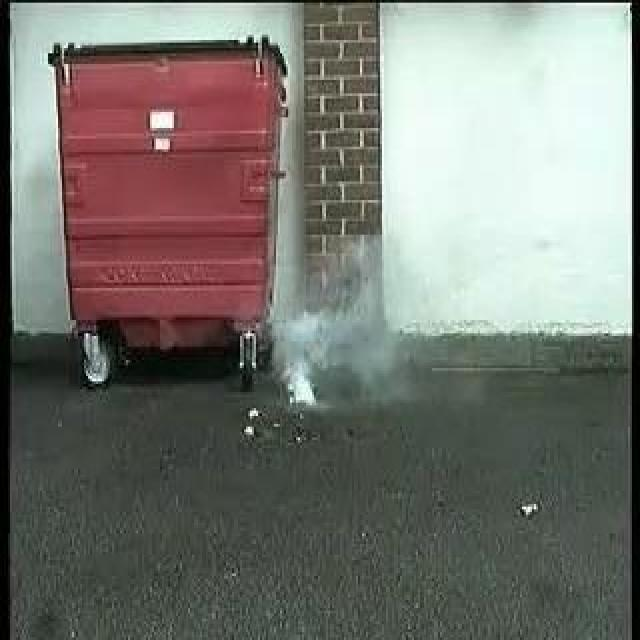Smoke: (279, 273, 385, 407)
